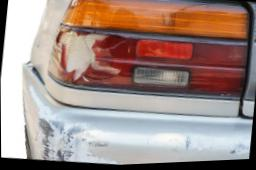Bumper: (19, 93, 252, 169)
Light: (47, 18, 151, 99)
